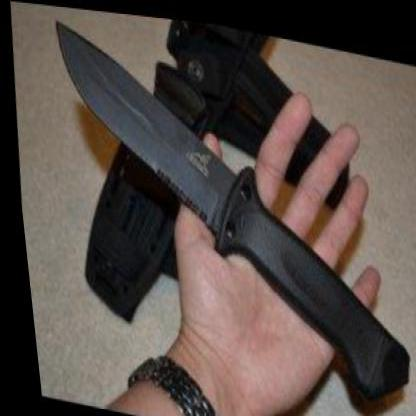knife: (35, 6, 268, 262)
